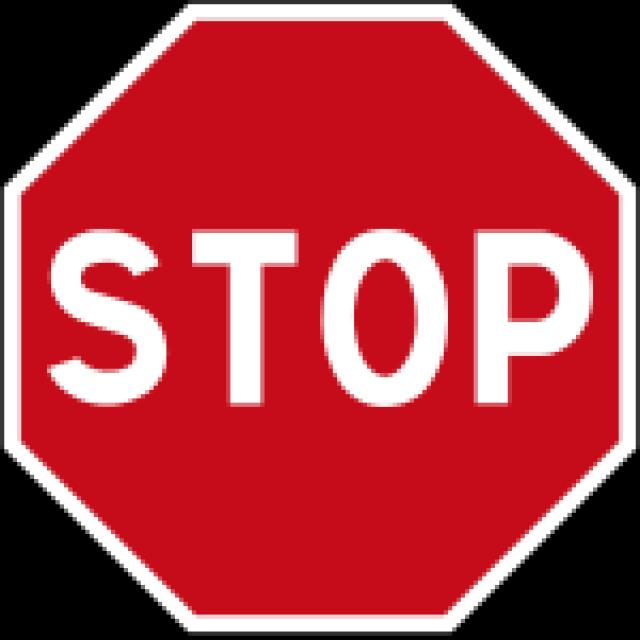let_go: (3, 4, 640, 640)
